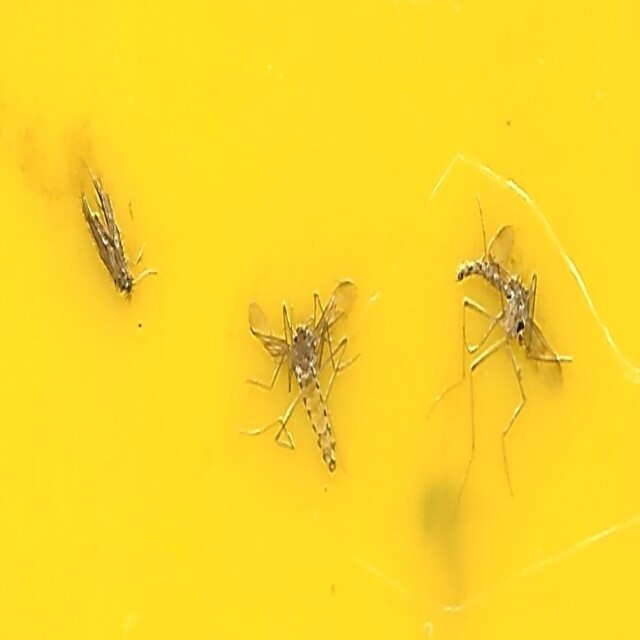Nematocera: (242, 264, 358, 484), (456, 222, 565, 416)
Trichoptera: (75, 156, 132, 296)
